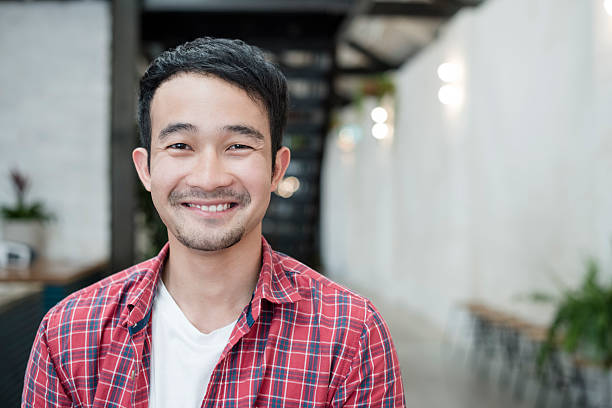person: (129, 37, 291, 257)
